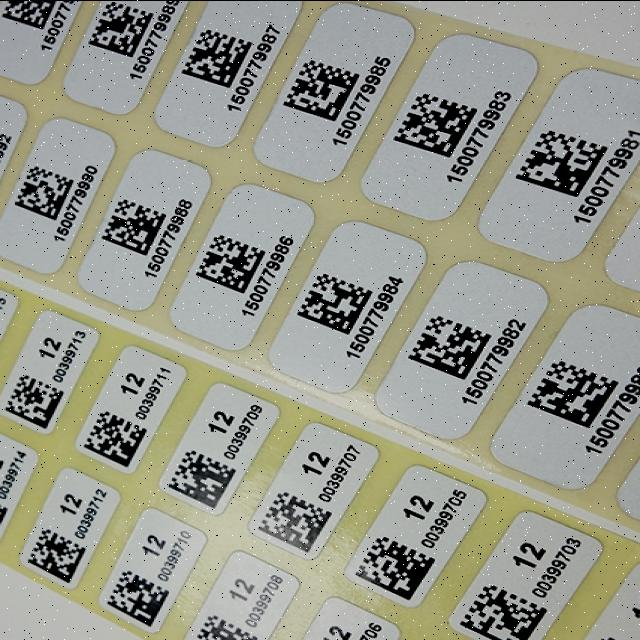datamatrix: (520, 358, 624, 429), (344, 532, 447, 603), (512, 125, 614, 196), (241, 486, 344, 556), (3, 162, 96, 230), (387, 90, 480, 158), (174, 22, 266, 90), (402, 312, 495, 379), (290, 272, 383, 339), (186, 233, 278, 300), (280, 55, 372, 122), (88, 194, 181, 260), (75, 0, 167, 66), (447, 582, 550, 640), (94, 565, 178, 628), (12, 523, 96, 585), (73, 410, 157, 471), (159, 449, 242, 510), (0, 369, 76, 430), (184, 609, 267, 640)
